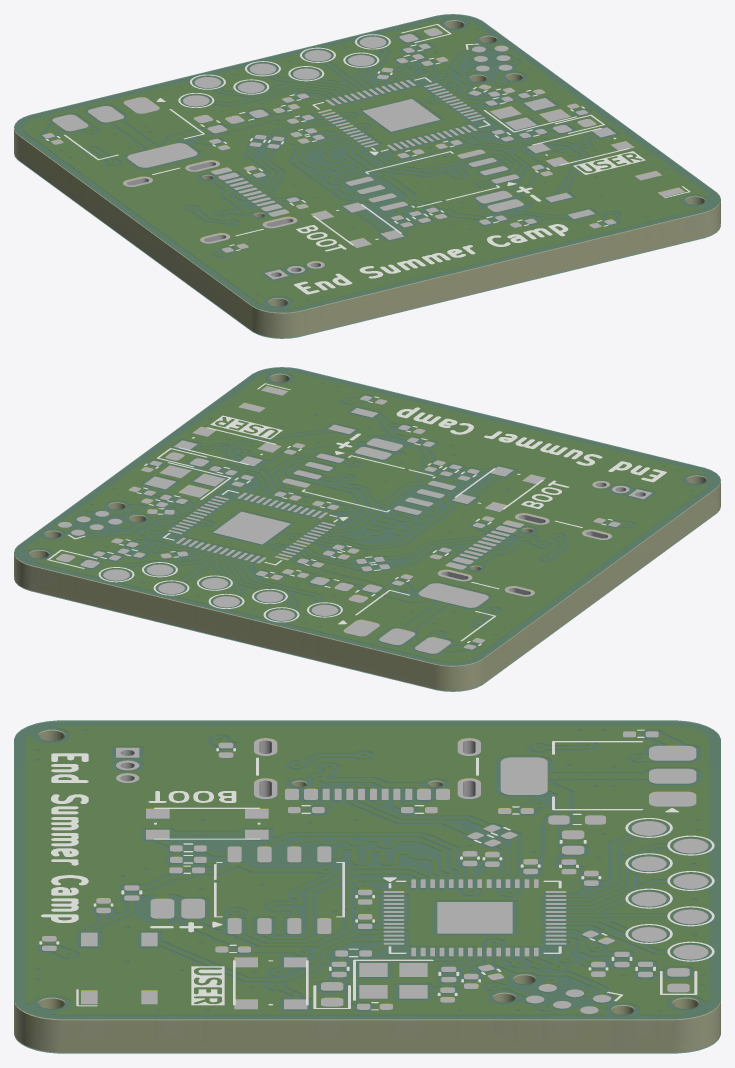
Rendered from minibadge-endsummercamp.glb.
3 renders of one model, top to bottom at view 1: azimuth 30°, elevation 25°; view 2: azimuth 150°, elevation 25°; view 3: azimuth 270°, elevation 25°, orthographic. The views are drawn at different scales.
Visible parts, largest first — view 1: =>[0:1:1:7], =>[0:1:1:2], =>[0:1:1:9], =>[0:1:1:5]; view 2: =>[0:1:1:7], =>[0:1:1:2], =>[0:1:1:9], =>[0:1:1:5]; view 3: =>[0:1:1:7], =>[0:1:1:2], =>[0:1:1:9], =>[0:1:1:5].
Boxes of the visible parts, box(x1,y1,x2,y2) form: =>[0:1:1:7]: box(14, 14, 720, 338); =>[0:1:1:2]: box(23, 20, 709, 308); =>[0:1:1:9]: box(14, 15, 720, 337); =>[0:1:1:5]: box(45, 24, 690, 294); =>[0:1:1:7]: box(14, 367, 720, 691); =>[0:1:1:2]: box(24, 372, 707, 661); =>[0:1:1:9]: box(14, 368, 720, 690); =>[0:1:1:5]: box(47, 383, 666, 645); =>[0:1:1:7]: box(14, 720, 720, 1053); =>[0:1:1:2]: box(26, 726, 708, 1014); =>[0:1:1:9]: box(14, 722, 720, 1052); =>[0:1:1:5]: box(39, 729, 714, 1010).
Size of the model in its own units: 0.03 by 0.00166 by 0.03.
4 materials, 4 textured.
